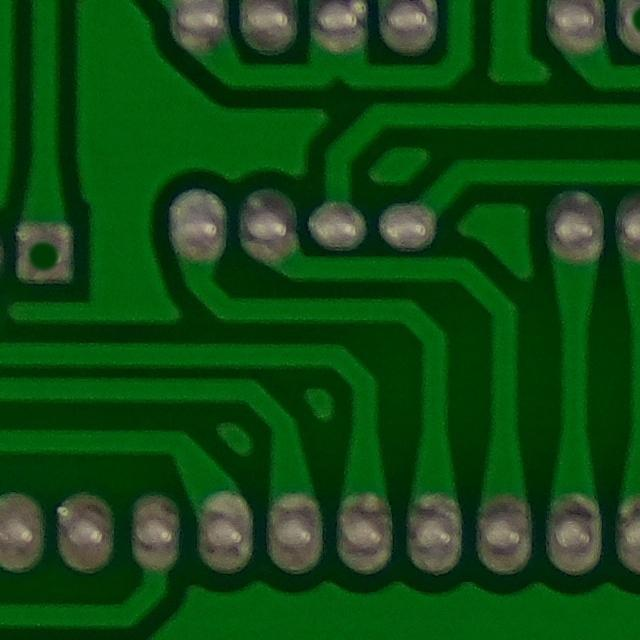missing_hole: (9, 215, 87, 289)
